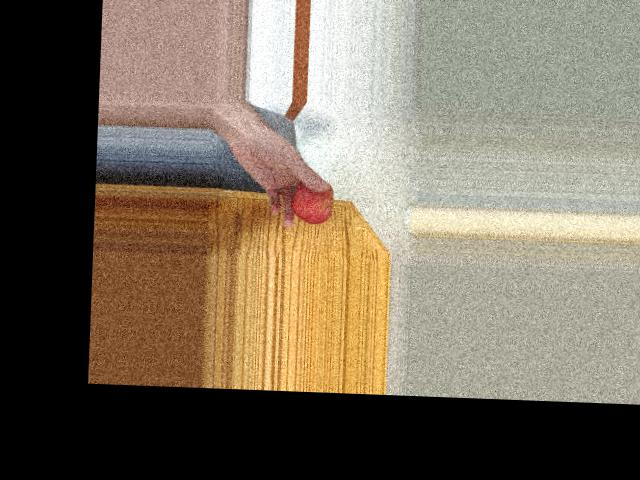apple: (289, 176, 334, 224)
